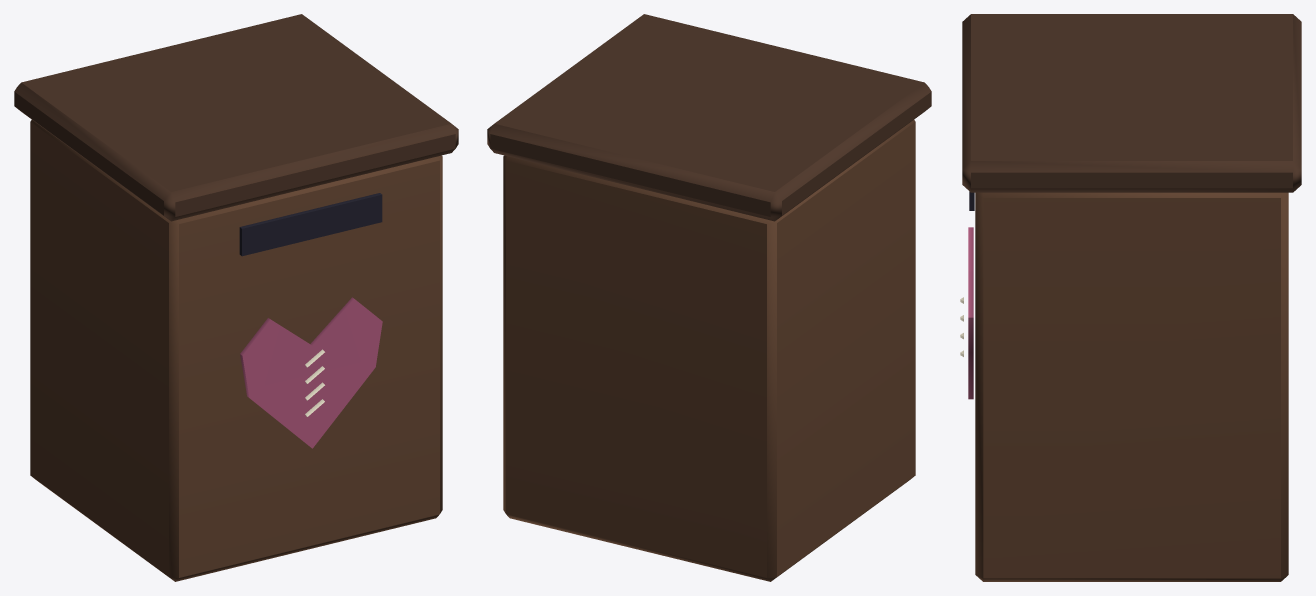
The model's file is bin_donation.glb.
3 views of the same model, side by side, from view 1: azimuth 30°, elevation 25°; view 2: azimuth 150°, elevation 25°; view 3: azimuth 270°, elevation 25° (orthographic). The views are drawn at different scales.
Parts seen in each view (by area): view 1: bin_donation; view 2: bin_donation; view 3: bin_donation.
Part boxes in pixels (x1,y1,x2,y2): bin_donation: (14,14,458,581); bin_donation: (487,14,931,581); bin_donation: (960,14,1301,581).
Size of the model in its own units: 0.84 by 1.08 by 0.785.
